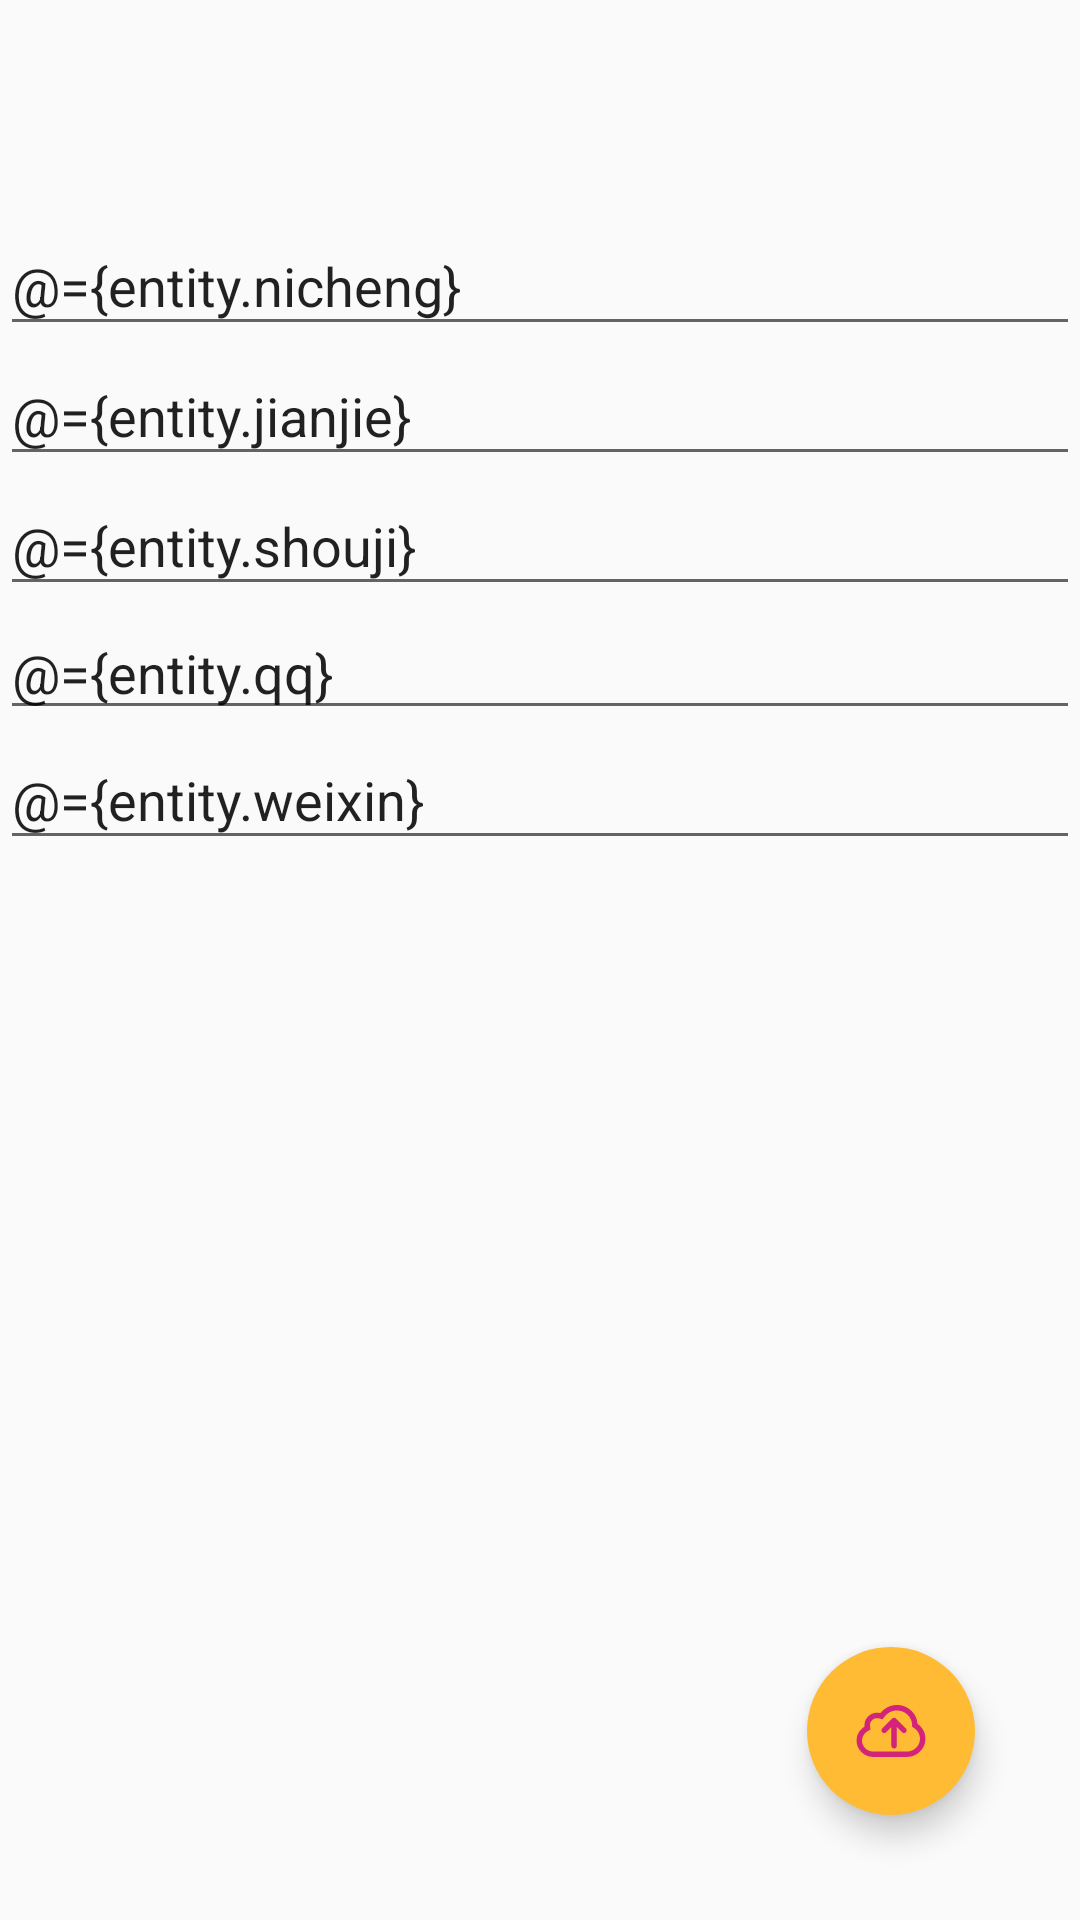

Locate icon controls on the screen. Image size 1080 x 1920, boxes as Rect(x1, y1, x2, y2).
tijiao: Rect(807, 1647, 975, 1815)
